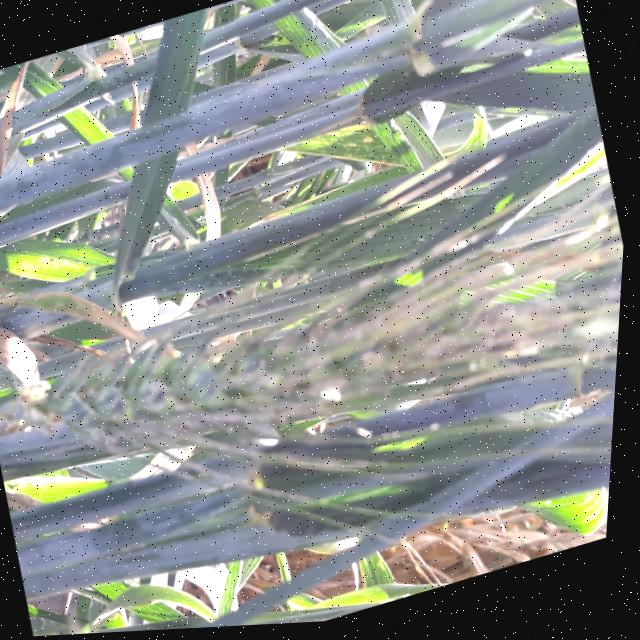powder_mildew: (0, 195, 630, 538), (0, 261, 148, 390), (272, 100, 412, 211)
